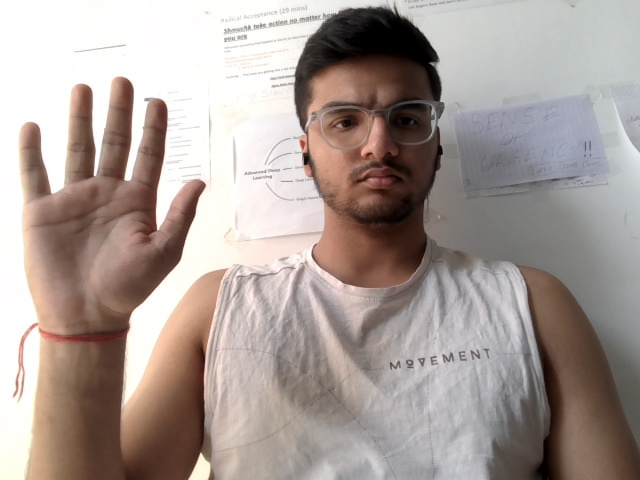Hello: (5, 37, 213, 371)
